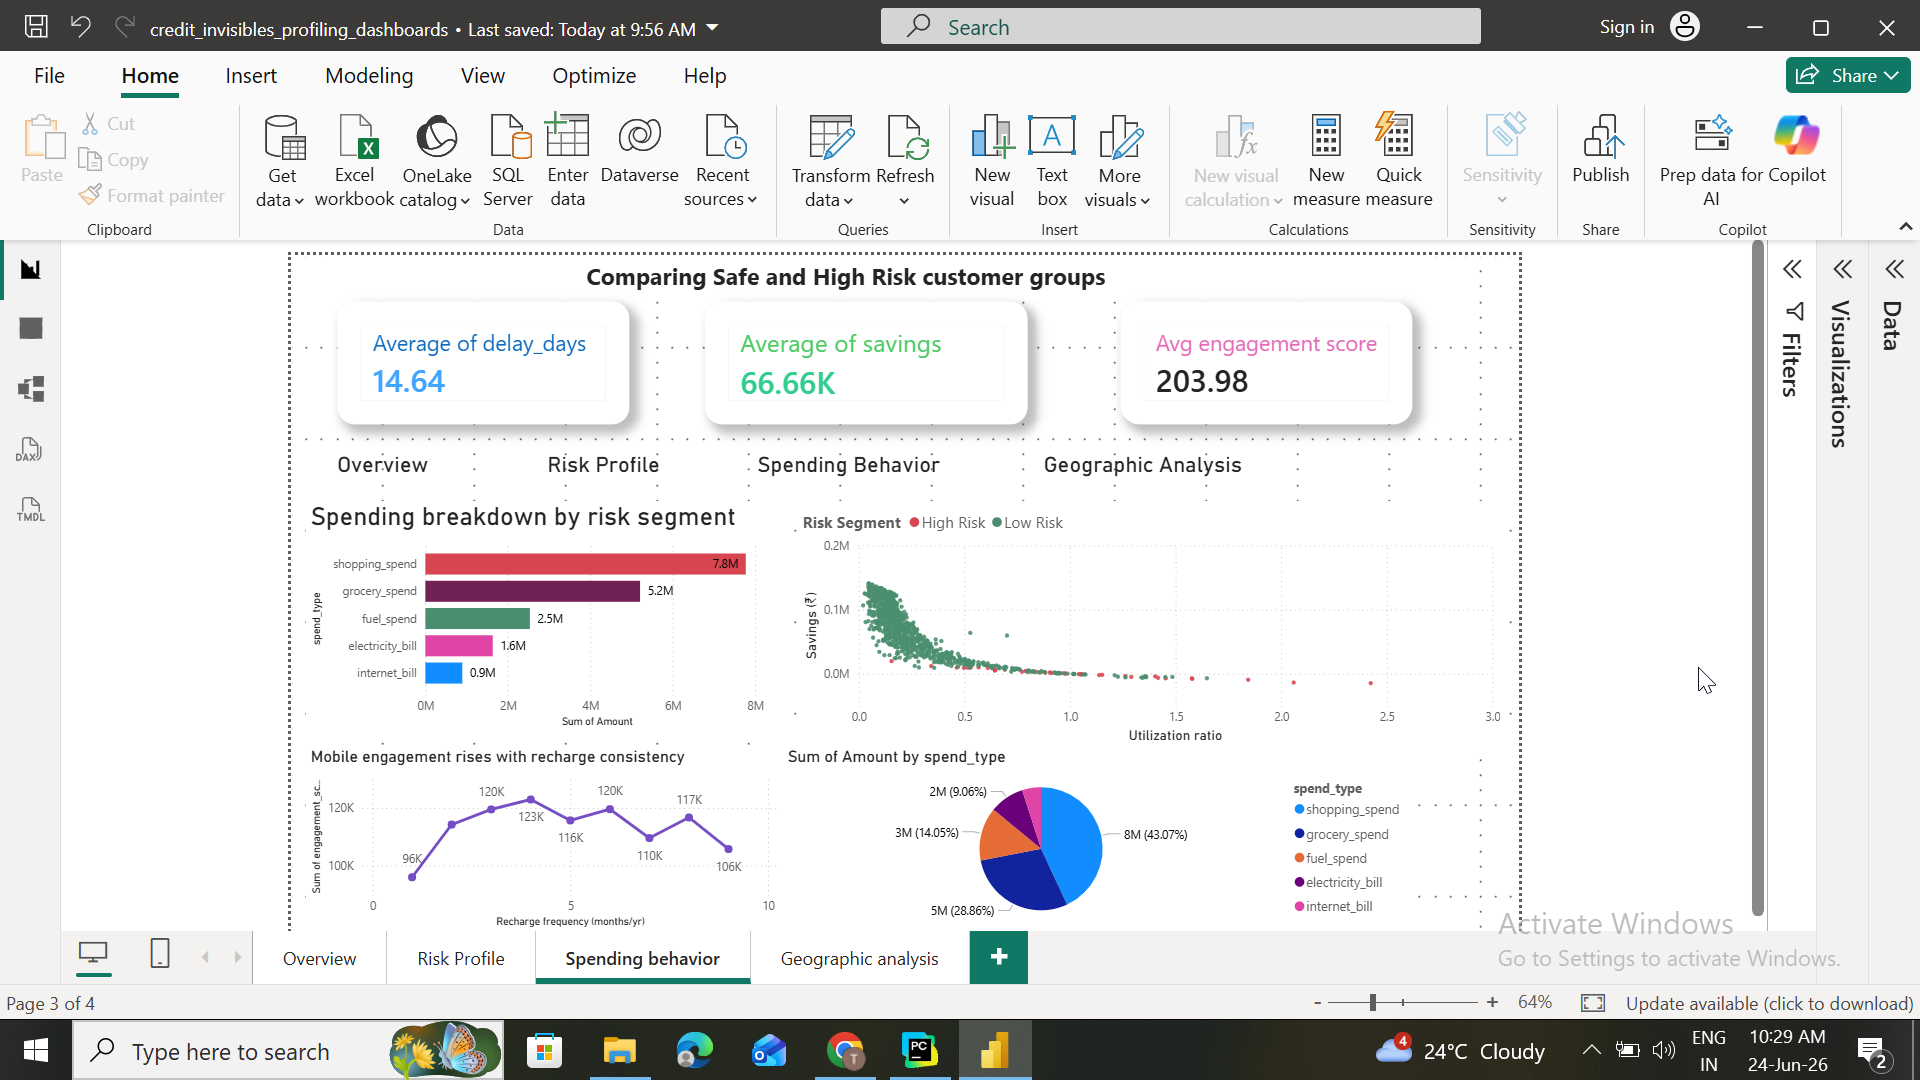

What the dashboard file says about the page in this screenshot:
{"tool":"powerbi","page":{"name":"Spending behavior","canvas":[1280,720],"ordinal":2},"visuals":[{"type":"barChart","title":"Spending breakdown by risk segment","fields":{"Y":["Sum(final_dataset.Amount)"],"Category":["final_dataset.spend_type"]},"box":[16,256,496,240],"z":0},{"type":"textbox","box":[32,0,1152,48],"z":1000},{"type":"cardVisual","fields":{"Data":["Avg(final_dataset.delay_days)"]},"box":[48,48,304,128],"z":2000},{"type":"cardVisual","fields":{"Data":["Avg(final_dataset.savings)"]},"box":[432,48,336,128],"z":3000},{"type":"cardVisual","fields":{"Data":["Avg(final_dataset.engagement_score)"]},"box":[864,48,304,128],"z":4000},{"type":"scatterChart","fields":{"Y":["Avg(final_dataset.savings)"],"X":["Avg(final_dataset.utilization)"],"Series":["final_dataset.Risk Segment"],"Category":["final_dataset.total_spend"]},"box":[528,256,736,256],"z":5000},{"type":"lineChart","title":"Mobile engagement rises with recharge consistency","fields":{"Category":["final_dataset.recharge_frequency"],"Y":["Sum(final_dataset.engagement_score)"]},"box":[16,512,496,192],"z":6000},{"type":"pieChart","fields":{"Y":["Sum(final_dataset.Amount)"],"Category":["final_dataset.spend_type"]},"box":[512,512,656,192],"z":7000},{"type":"actionButton","title":"Overview","box":[48,204.9,160,32],"z":8000},{"type":"actionButton","title":"Risk Profile","box":[267.2,204.9,144,32],"z":9000},{"type":"actionButton","title":"Spending Behavior","box":[485.9,204.9,224,32],"z":10000},{"type":"actionButton","title":"Geographic Analysis","box":[784.6,204.9,288,32],"z":11000}]}

Visuals, with their boxes on the page's 1280x720 design canvas (x1, y1, x2, y2). These are canvas units, not pixel positions in the 1920x1080 screenshot, which may show the page scaled, cropped or inside an application window:
"Spending breakdown by risk segment" barChart: region(16, 256, 512, 496)
textbox: region(32, 0, 1184, 48)
cardVisual - Avg(final_dataset.delay_days): region(48, 48, 352, 176)
cardVisual - Avg(final_dataset.savings): region(432, 48, 768, 176)
cardVisual - Avg(final_dataset.engagement_score): region(864, 48, 1168, 176)
scatterChart - Avg(final_dataset.savings) x Avg(final_dataset.utilization): region(528, 256, 1264, 512)
"Mobile engagement rises with recharge consistency" lineChart: region(16, 512, 512, 704)
pieChart - Sum(final_dataset.Amount) x final_dataset.spend_type: region(512, 512, 1168, 704)
"Overview" actionButton: region(48, 205, 208, 237)
"Risk Profile" actionButton: region(267, 205, 411, 237)
"Spending Behavior" actionButton: region(486, 205, 710, 237)
"Geographic Analysis" actionButton: region(785, 205, 1073, 237)
